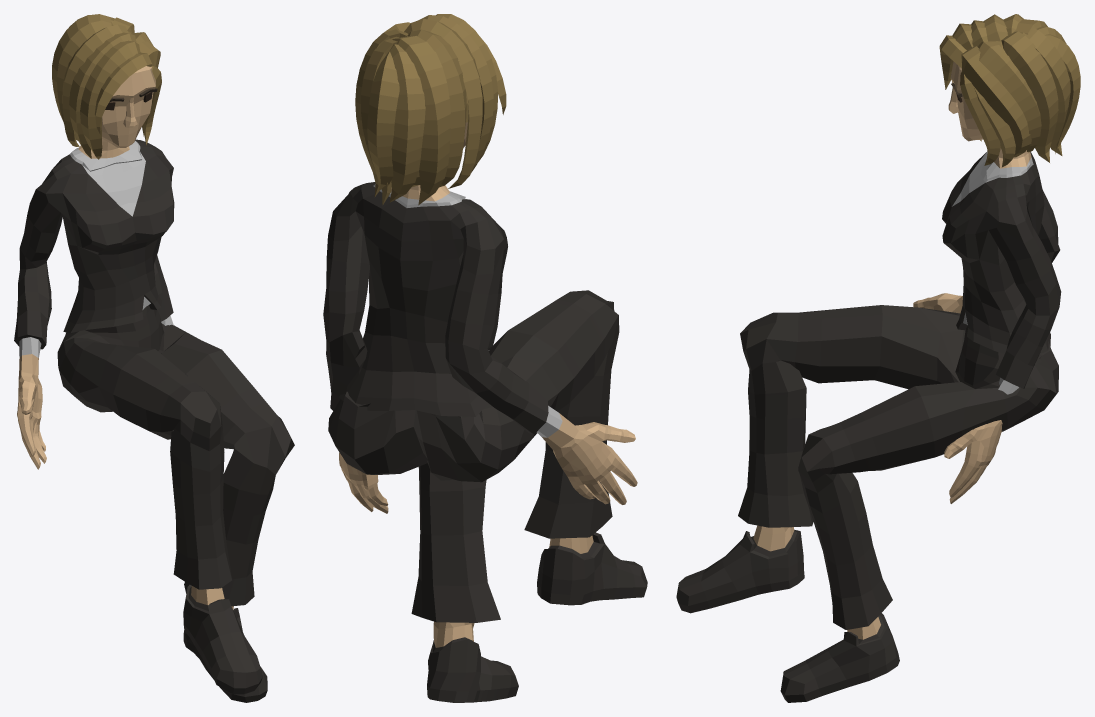
The model's file is woman-suit.glb.
The picture shows the model from 3 angles, left to right: view 1: azimuth 30°, elevation 25°; view 2: azimuth 150°, elevation 25°; view 3: azimuth 270°, elevation 25°; orthographic projection. The views are drawn at different scales.
Visible parts, largest first — view 1: woman-suit; view 2: woman-suit; view 3: woman-suit.
Boxes of the visible parts, x1=… form: woman-suit: x1=14, y1=14, x2=294, y2=702; woman-suit: x1=323, y1=14, x2=647, y2=702; woman-suit: x1=676, y1=14, x2=1080, y2=702.
Bounding box in the file's own units: 0.5534 × 1.47 × 0.8185.
